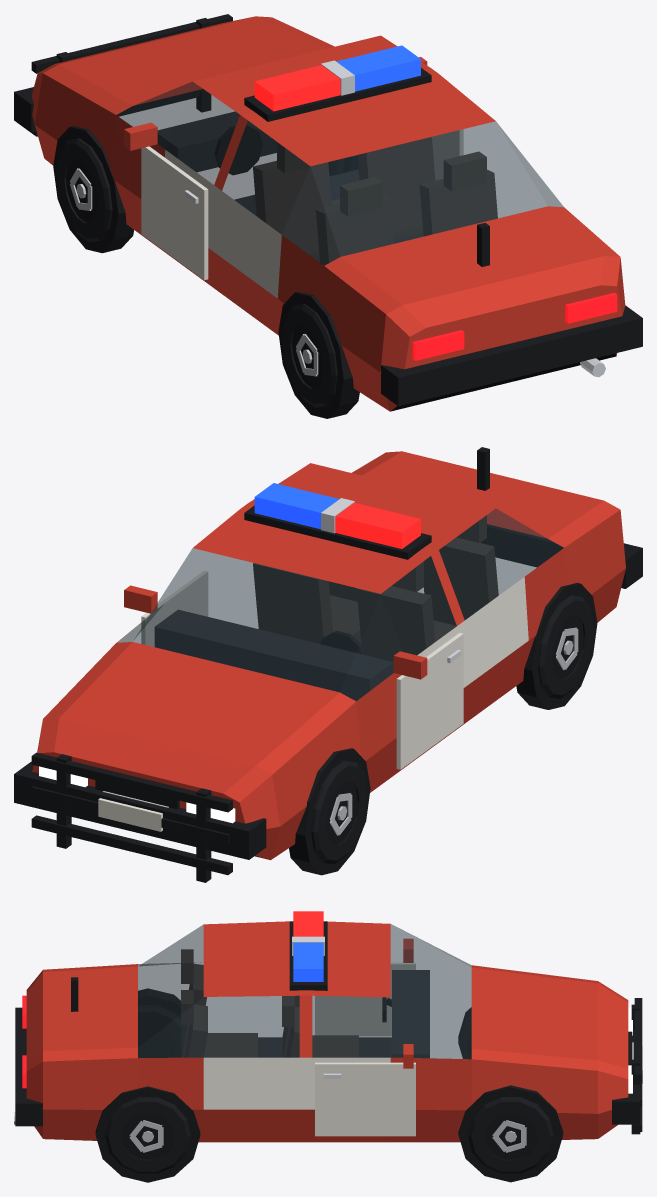
File: police.glb
The picture shows the model from 3 angles, top to bottom: view 1: azimuth 30°, elevation 25°; view 2: azimuth 150°, elevation 25°; view 3: azimuth 270°, elevation 25°; orthographic projection. The views are drawn at different scales.
Visible parts, largest first — view 1: police, police_door_fl, police_wheel_fl, police_wheel_rl, police_door_fr; view 2: police, police_door_fl, police_wheel_fl, police_wheel_rl, police_door_fr; view 3: police, police_door_fr, police_wheel_fr, police_wheel_rr, police_door_fl, police_wheel_rl.
Part boxes in pixels (x1,y1,x2,y2): police: (14,14,642,418); police_door_fl: (141,146,208,280); police_wheel_fl: (56,138,112,242); police_wheel_rl: (282,304,337,407); police_door_fr: (432,129,463,180); police: (14,447,642,882); police_door_fl: (396,633,463,769); police_wheel_fl: (311,760,367,864); police_wheel_rl: (538,595,593,698); police_door_fr: (141,570,208,646); police: (14,911,642,1182); police_door_fr: (315,1062,415,1136); police_wheel_fr: (468,1097,553,1173); police_wheel_rr: (105,1097,190,1173); police_door_fl: (315,962,415,1036); police_wheel_rl: (138,1005,182,1057).
Size of the model in its own units: 2.18 by 1.69 by 4.98.
